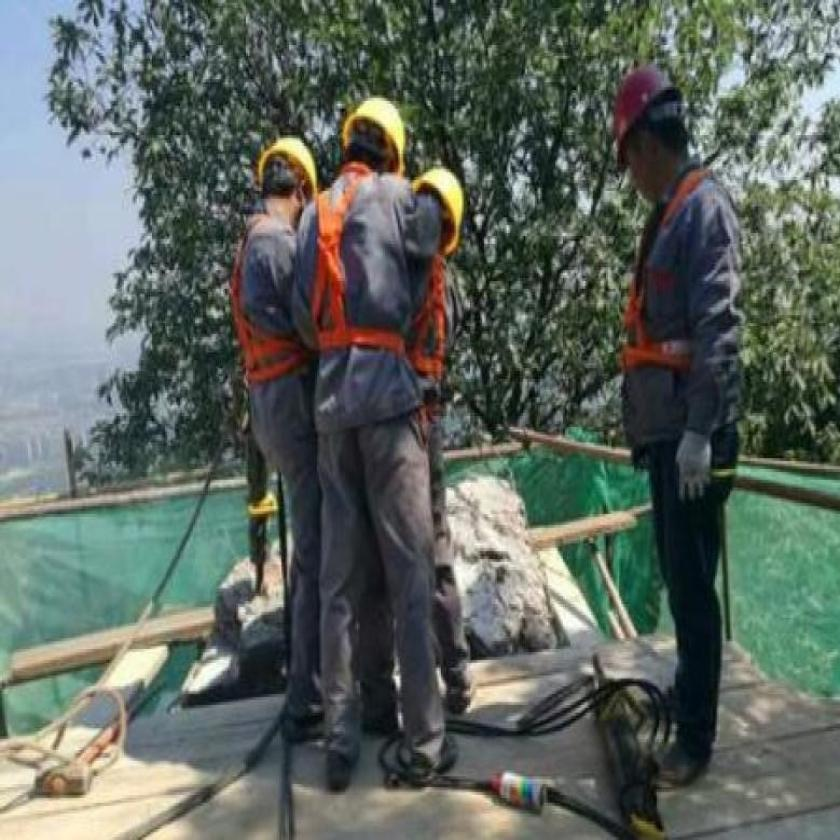Con_casco: (597, 54, 698, 200), (334, 85, 406, 187), (250, 135, 322, 217), (416, 158, 467, 259)
